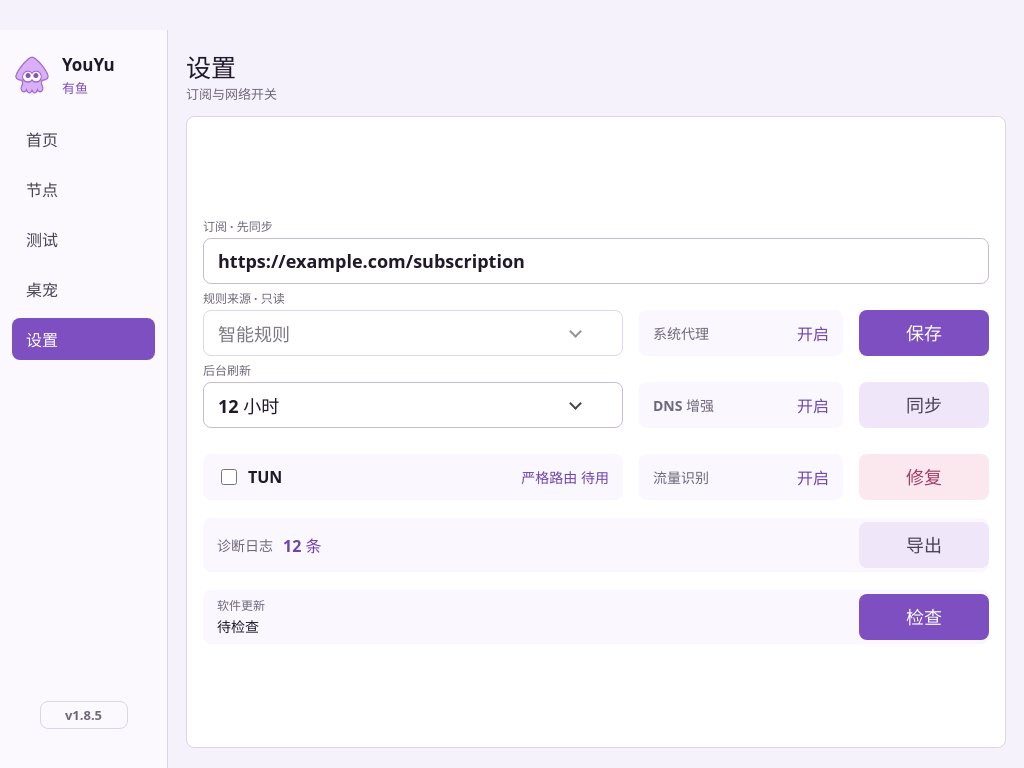
Test case: renderer action behavior › exports diagnostics through the preload API and reports completion only after a saved file
Click the button "导出" at coordinates (924, 545), box [859,522,989,568]
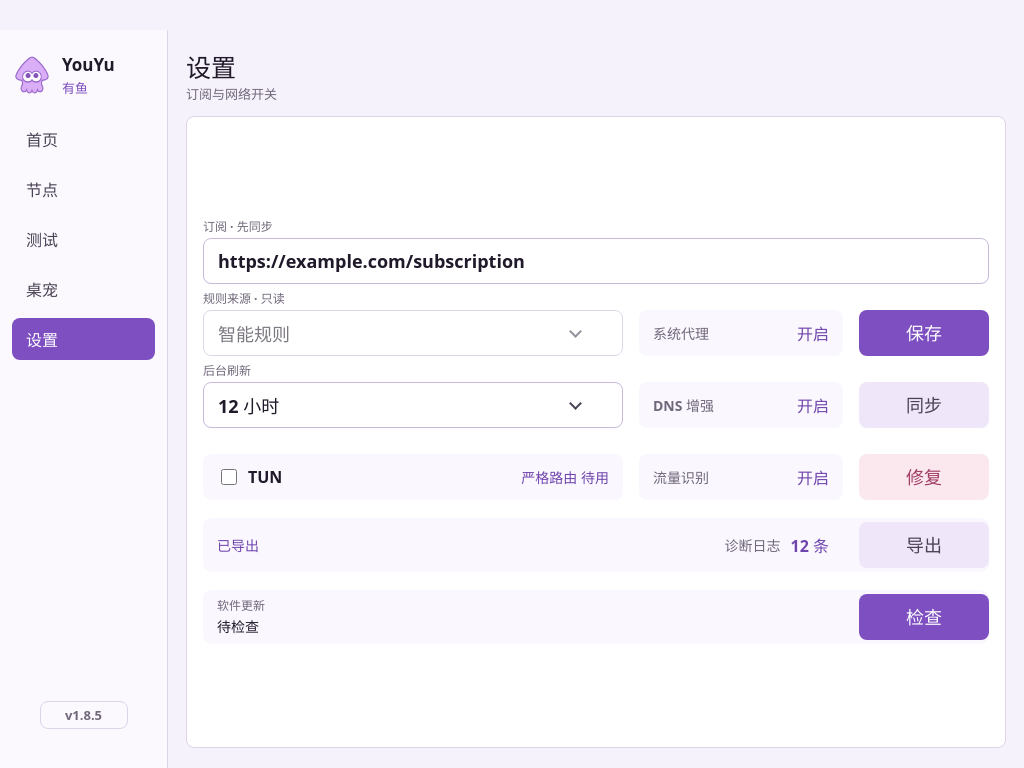
Expected: the text "已导出" is shown, [217,536,259,554]
